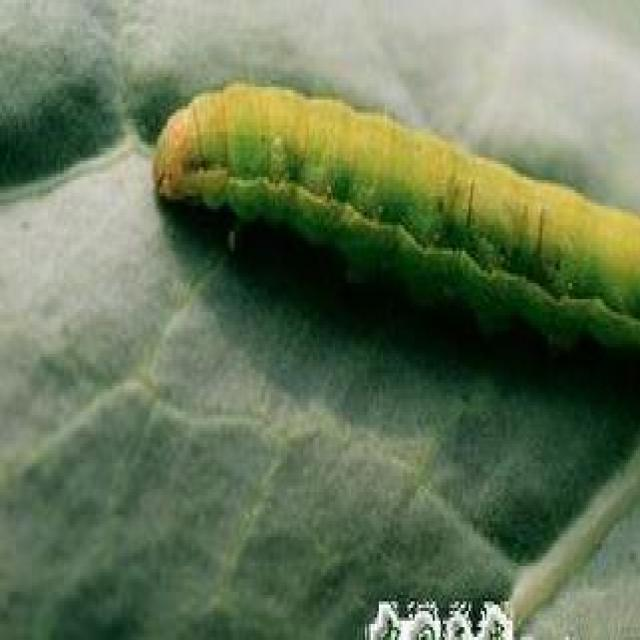BeetArmyWorm-Larva-: (146, 66, 638, 364)
